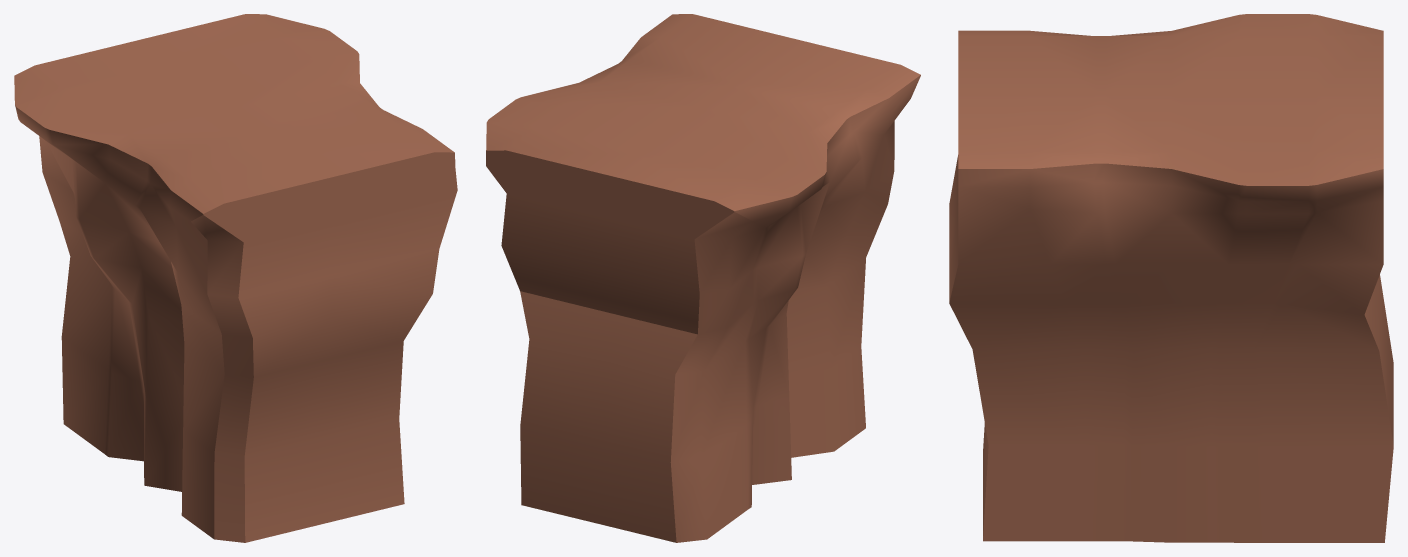
Rendered from platform_straight.FBX.
3 renders of one model, left to right at view 1: azimuth 30°, elevation 25°; view 2: azimuth 150°, elevation 25°; view 3: azimuth 270°, elevation 25°, orthographic. The views are drawn at different scales.
Visible parts, largest first — view 1: Box001; view 2: Box001; view 3: Box001.
Boxes of the visible parts, box(x1,y1,x2,y2) form: Box001: box(14, 14, 457, 542); Box001: box(486, 14, 920, 542); Box001: box(949, 14, 1393, 542).
Size of the model in its own units: 94.52 by 103 by 103.
